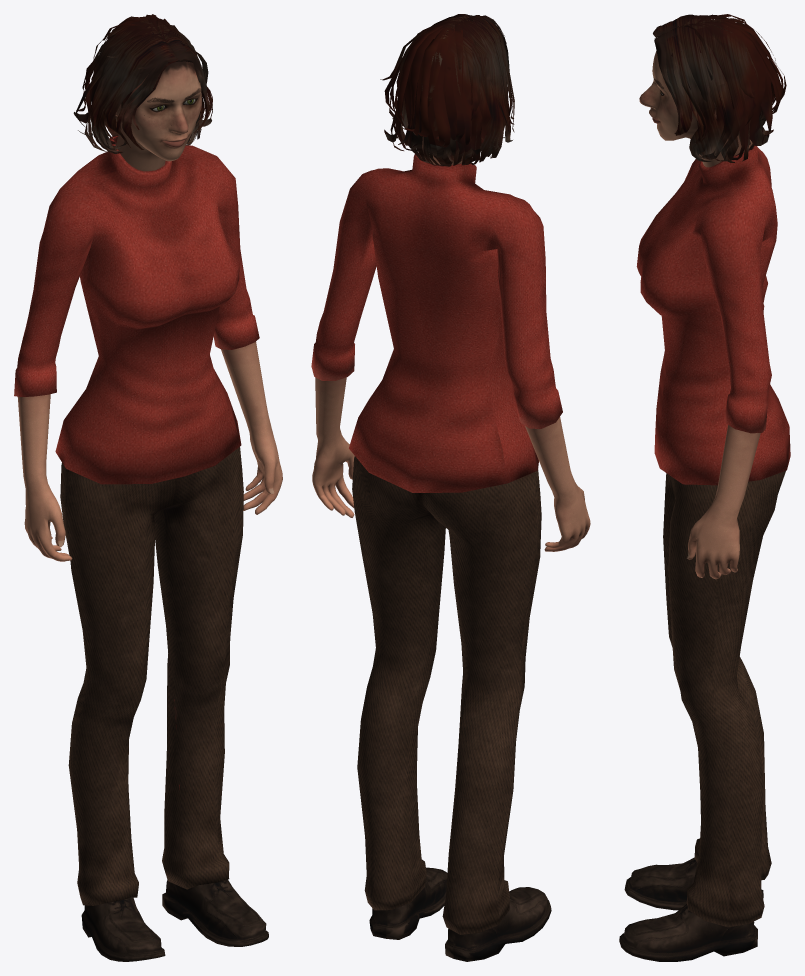
Rendered from anim_pose_customer02.fbx.fbx.
3 renders of one model, left to right at view 1: azimuth 30°, elevation 25°; view 2: azimuth 150°, elevation 25°; view 3: azimuth 270°, elevation 25°, orthographic.
Parts seen in each view (by area): view 1: char3; view 2: char3; view 3: char3.
Part boxes in pixels (bbox=[...]): char3: bbox=[14, 14, 282, 961]; char3: bbox=[311, 14, 590, 961]; char3: bbox=[619, 14, 790, 961].
Bounding box in the file's own units: 0.4751 × 1.62 × 0.2779.
Materials: 1 (1 with a texture image).
